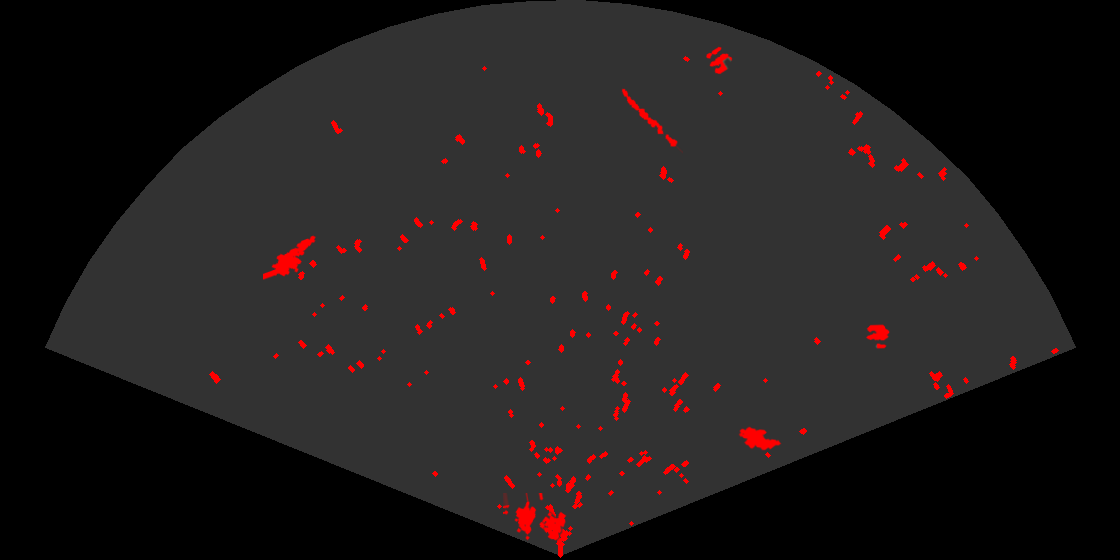AUV: (737, 425, 783, 452)
ball: (705, 45, 734, 76), (864, 323, 891, 350)
cage: (503, 493, 568, 542)
chain: (620, 87, 683, 155)
frogman: (263, 234, 318, 281)
